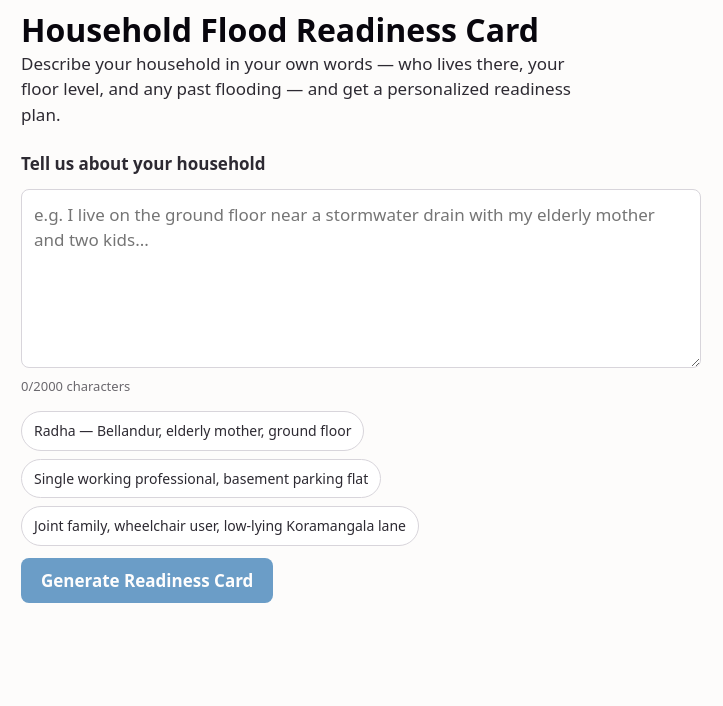
Scenario: App › shows the error state when generation fails
The width and height of the screenshot is (723, 706).
Type "I live on the ground floor with my elderly mother and two kids." into the text box labelled "Tell us about your household". click: {"x": 361, "y": 278}
box: [21,188,701,368]
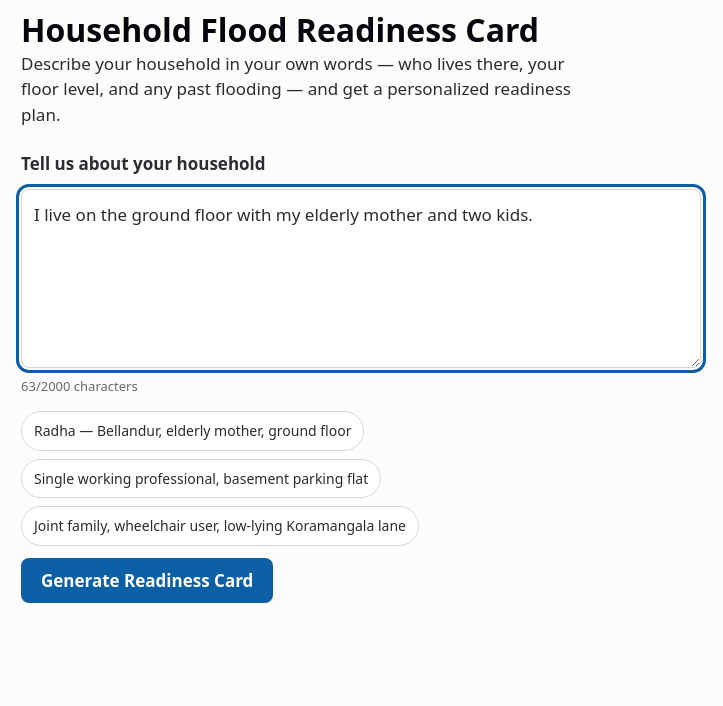
Click the button "Generate Readiness Card". click: {"x": 147, "y": 580}
box: [21,558,273,603]
(page scrolled)
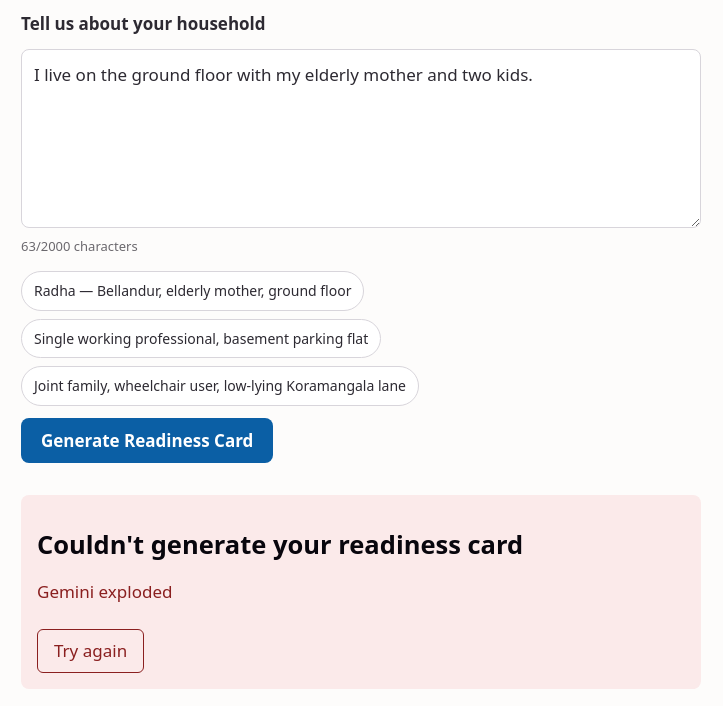
expect the message shows "Gemini exploded": met, box [37,580,172,603]
